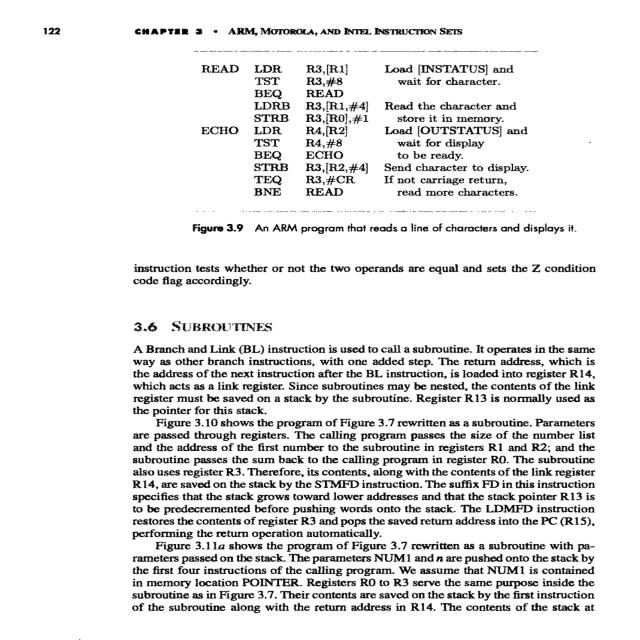diagram: (173, 41, 640, 236)
